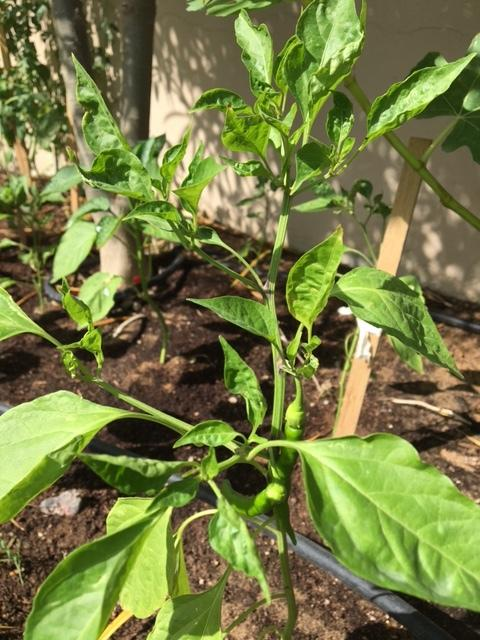Bell_pepper leaf spot: (296, 430, 480, 606), (2, 388, 159, 522)
